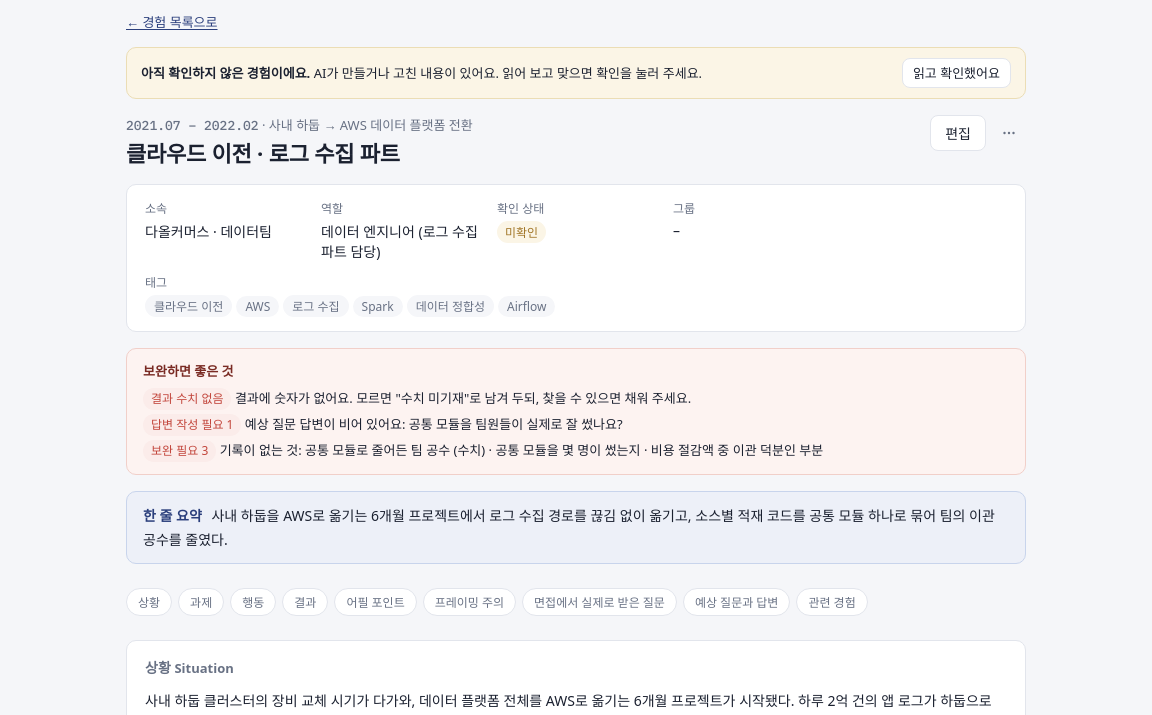
Test: ExperienceViewScreen › marks an unverified experience as checked with [읽고 확인했어요]
Expected: the text "아직 확인하지 않은 경험이에요." is shown, [141, 64, 310, 82]
Click the button "읽고 확인했어요" at point(956, 73), box [902, 58, 1011, 88]
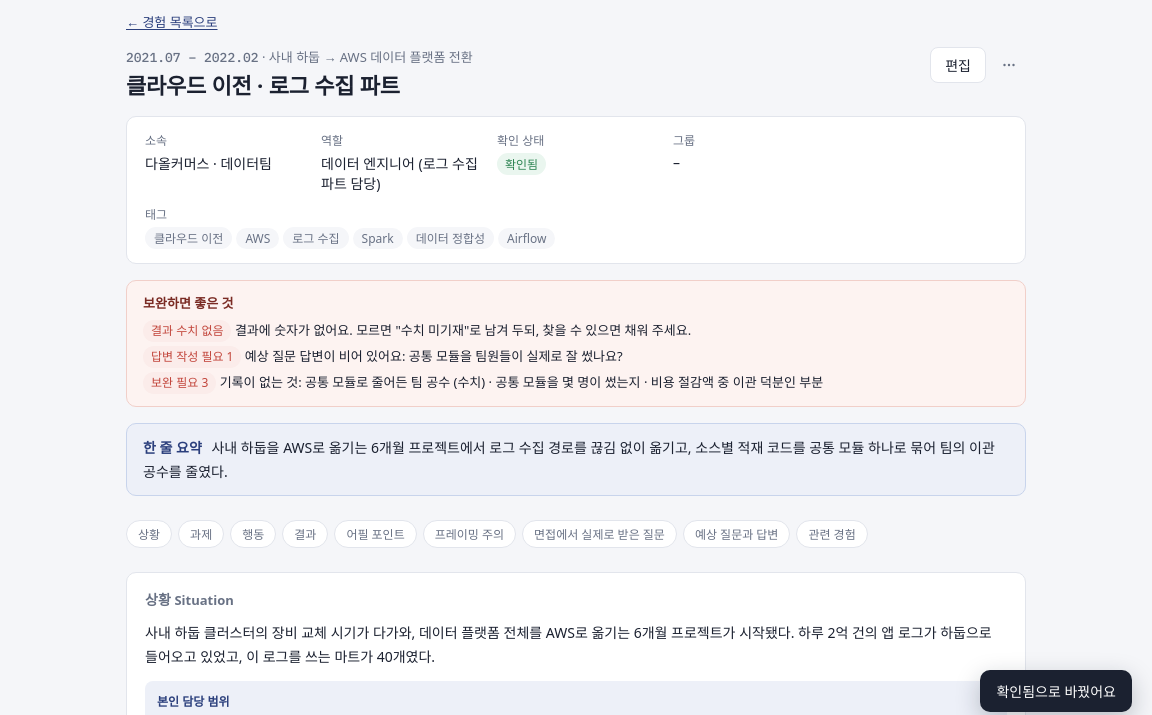
Expected: the text "확인됨으로 바꿨어요" is shown, [980, 670, 1132, 712]
Expected: the text "아직 확인하지 않은 경험이에요." is gone
